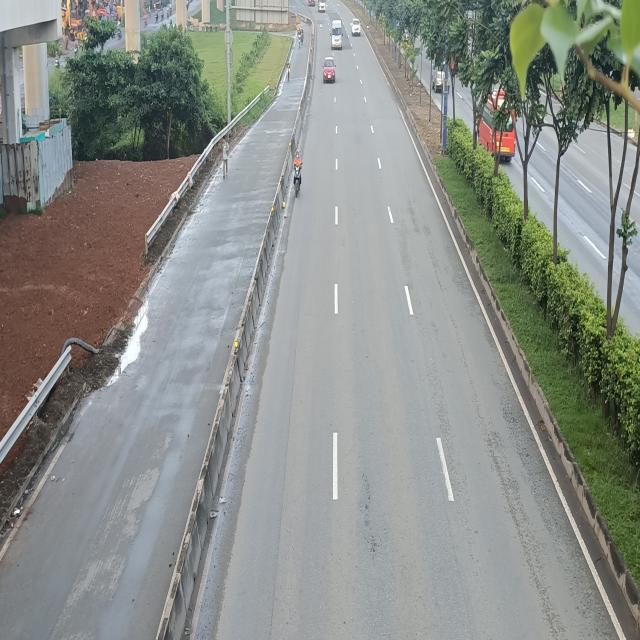van: (331, 19, 343, 51)
